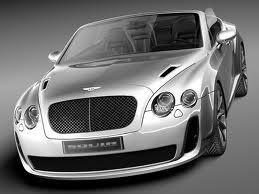car: (12, 7, 252, 182)
